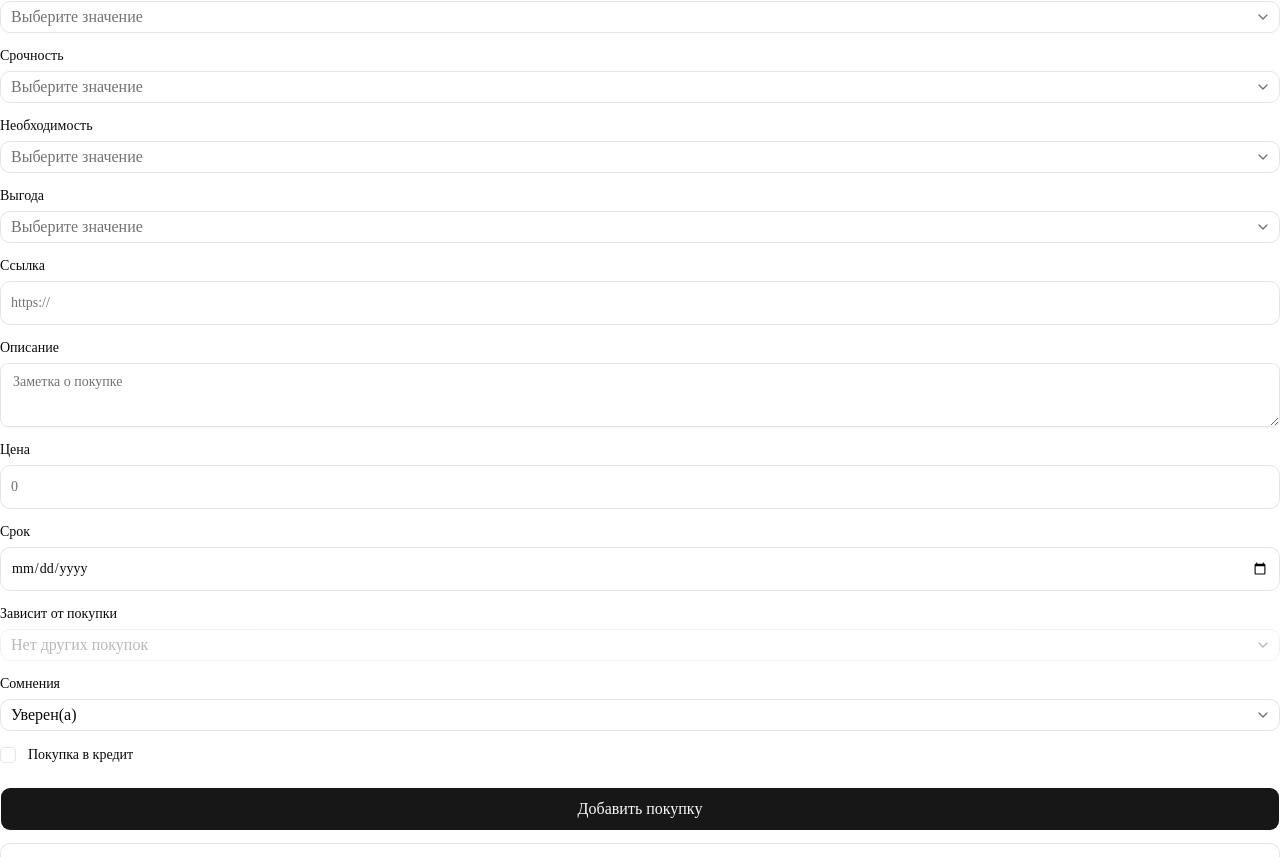
Test: AddItemForm › не вызывает createItem и показывает «Заполните это поле» при пустом title
(page scrolled)
Click the button "Добавить покупку" at (640, 809), box left=0, top=787, right=1279, bottom=831
(page scrolled)
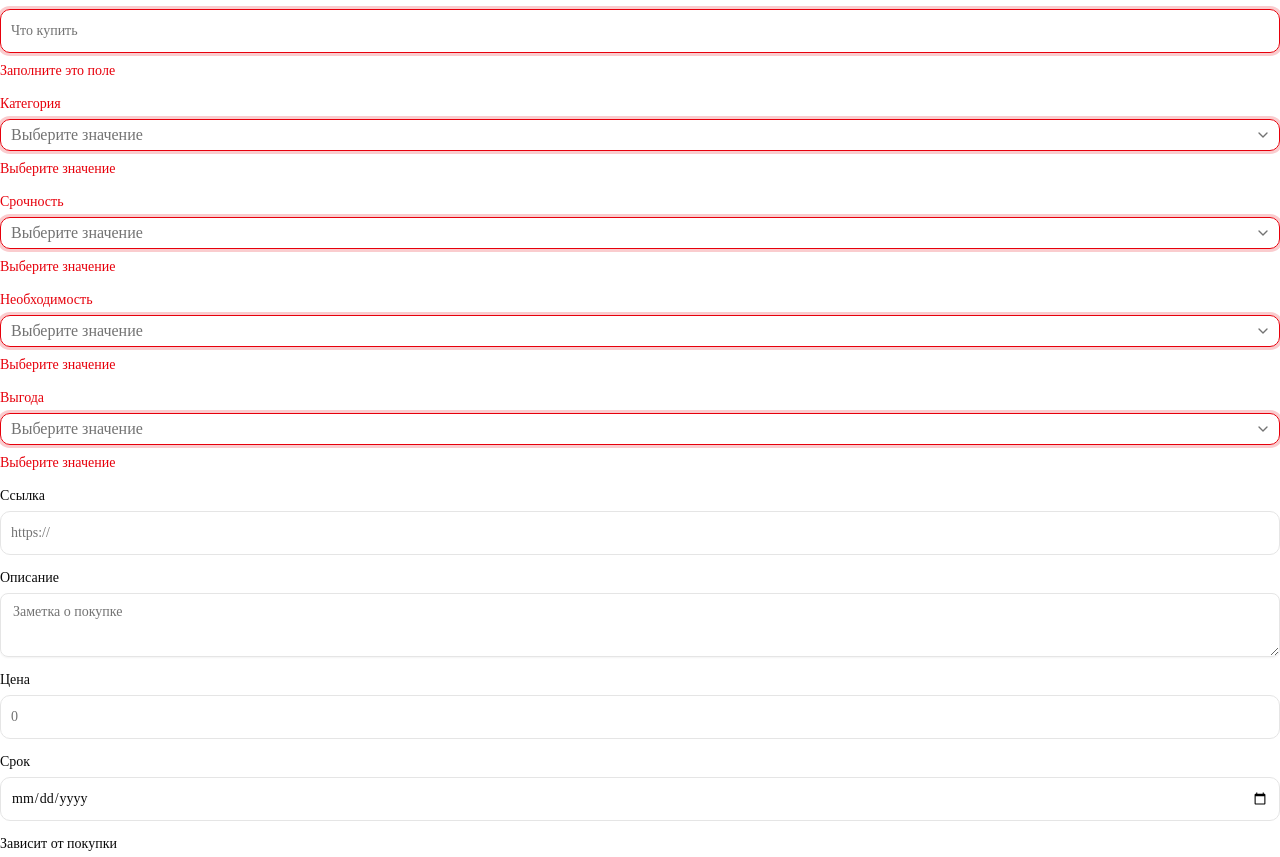
Check: the text "Заполните это поле" is shown, box left=0, top=63, right=115, bottom=78
